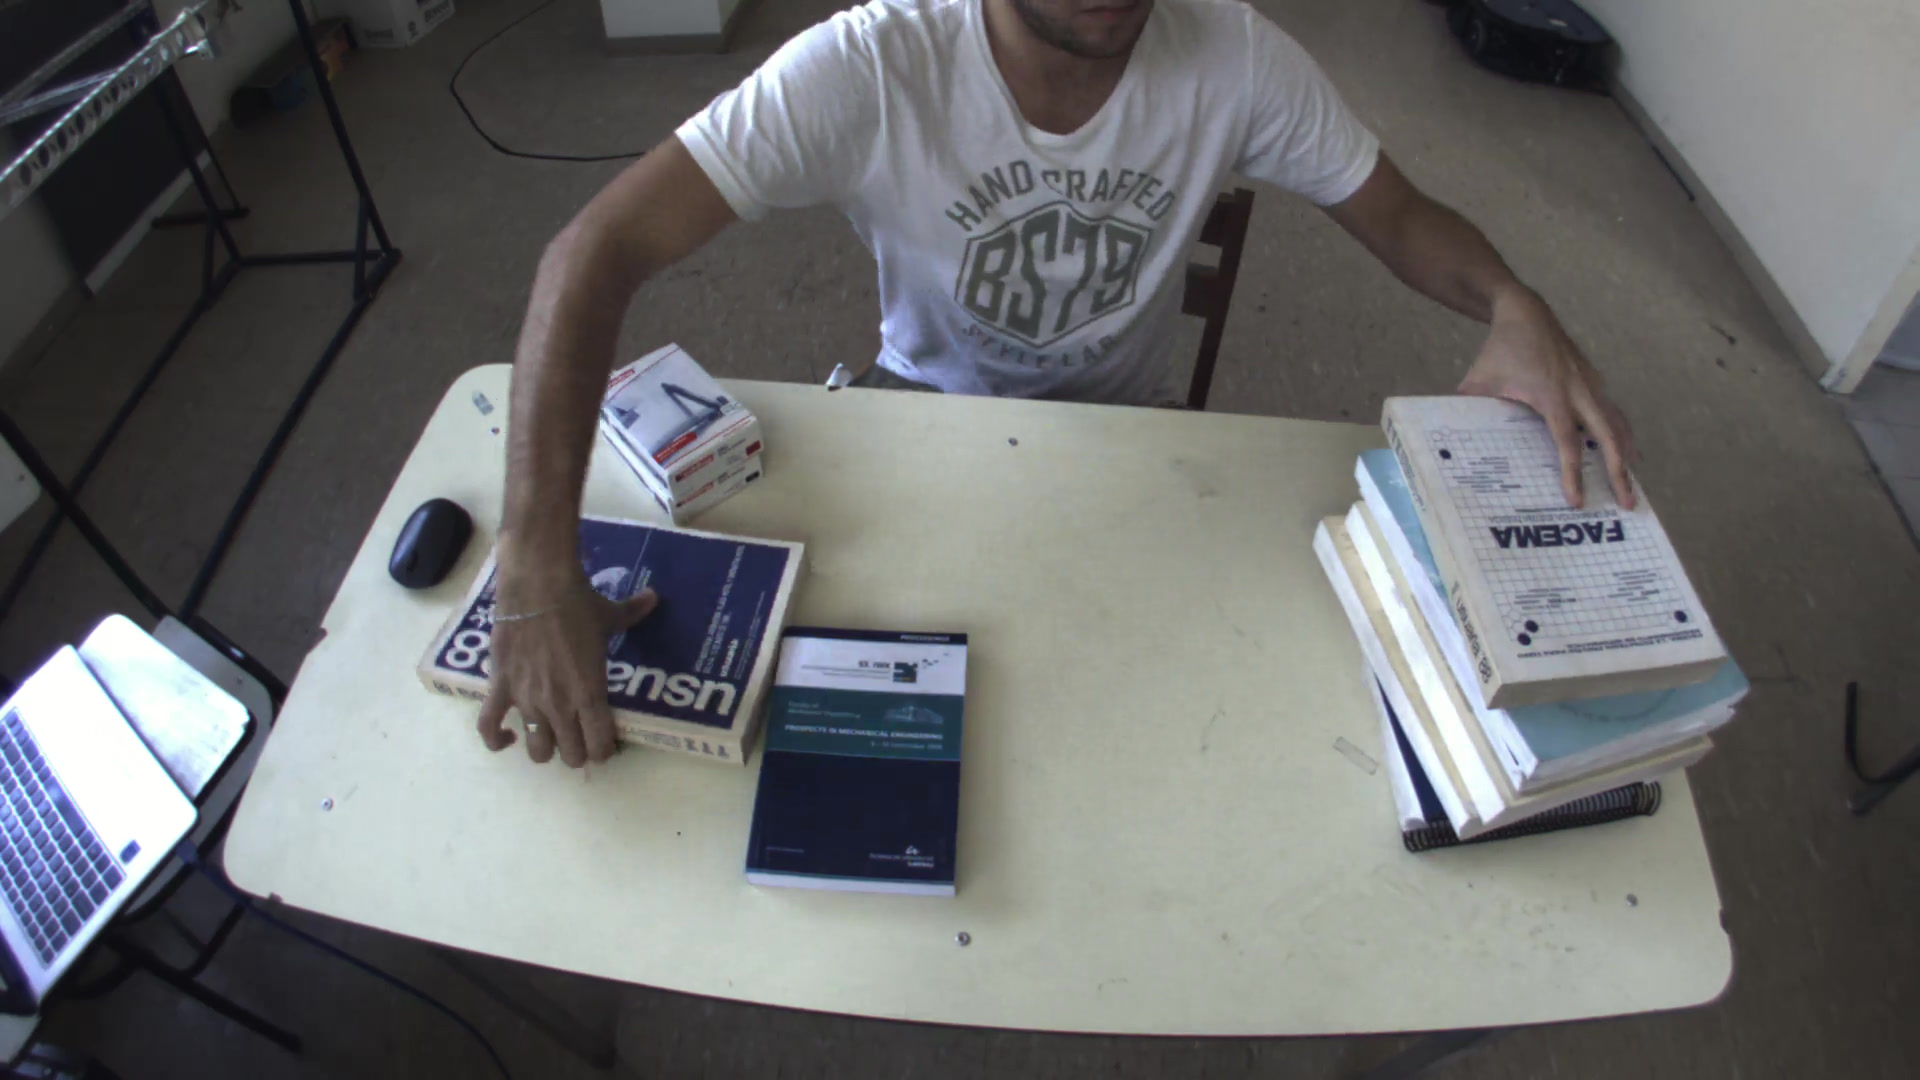hand: (464, 545, 665, 775), (1458, 307, 1660, 516)
